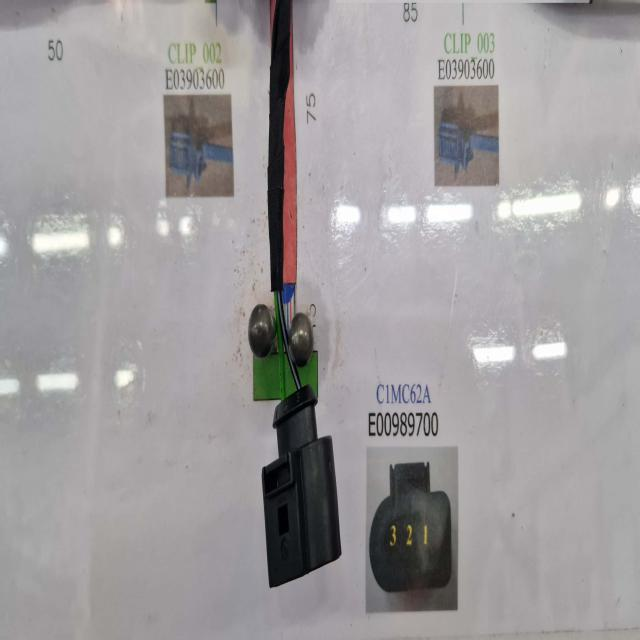Connector: (261, 383, 342, 590)
Gape: (265, 288, 297, 407)
MHEV_N11_Cable: (267, 0, 295, 334)
